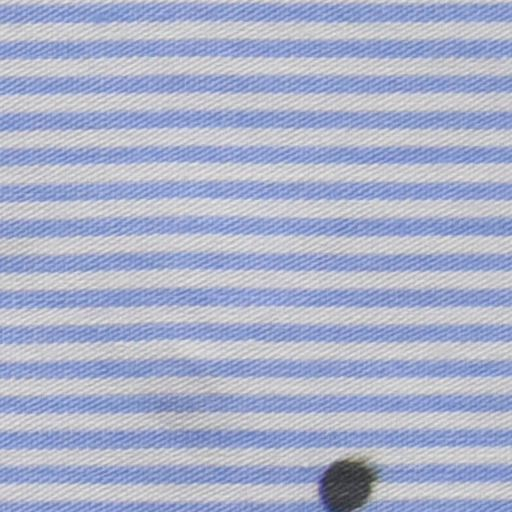defect: (320, 457, 375, 512)
